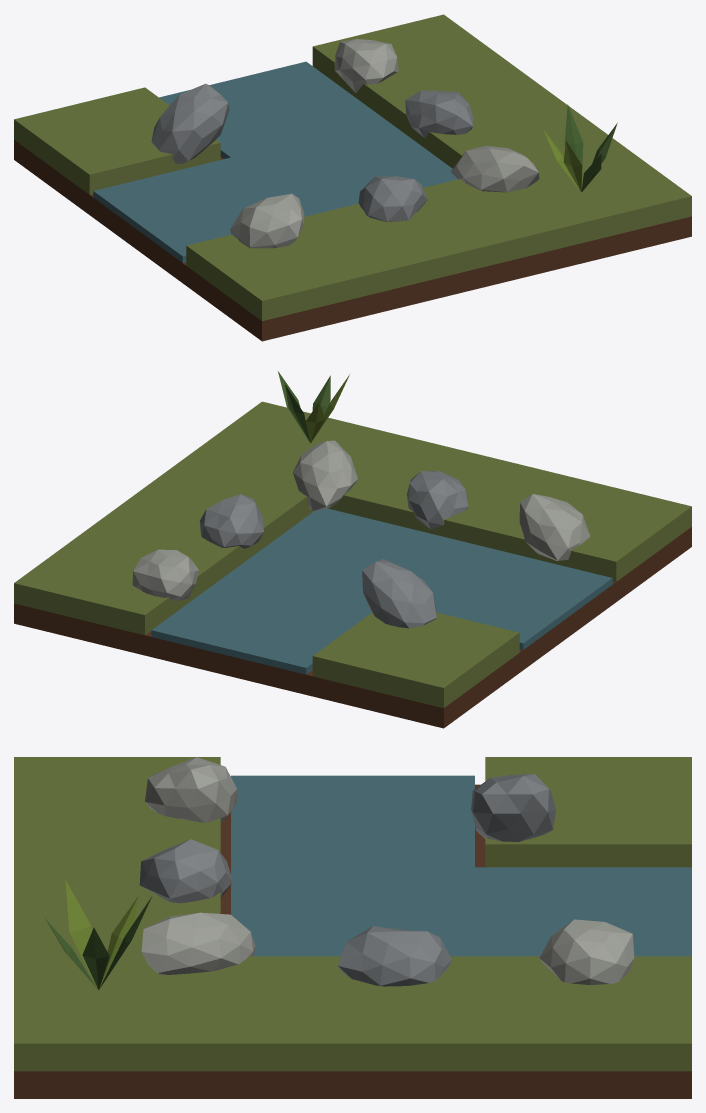
File: 164_stream_corner.fbx
3 renders of one model, top to bottom at view 1: azimuth 30°, elevation 25°; view 2: azimuth 150°, elevation 25°; view 3: azimuth 270°, elevation 25°, orthographic. The views are drawn at different scales.
Parts seen in each view (by area): view 1: 164_stream_corner; view 2: 164_stream_corner; view 3: 164_stream_corner.
Boxes of the visible parts, x1,y1,x2,y2 form: 164_stream_corner: (14,14,691,341); 164_stream_corner: (14,371,691,728); 164_stream_corner: (14,757,691,1098).
Bounding box in the file's own units: 2 × 0.504 × 2.
1 material, 1 textured.
